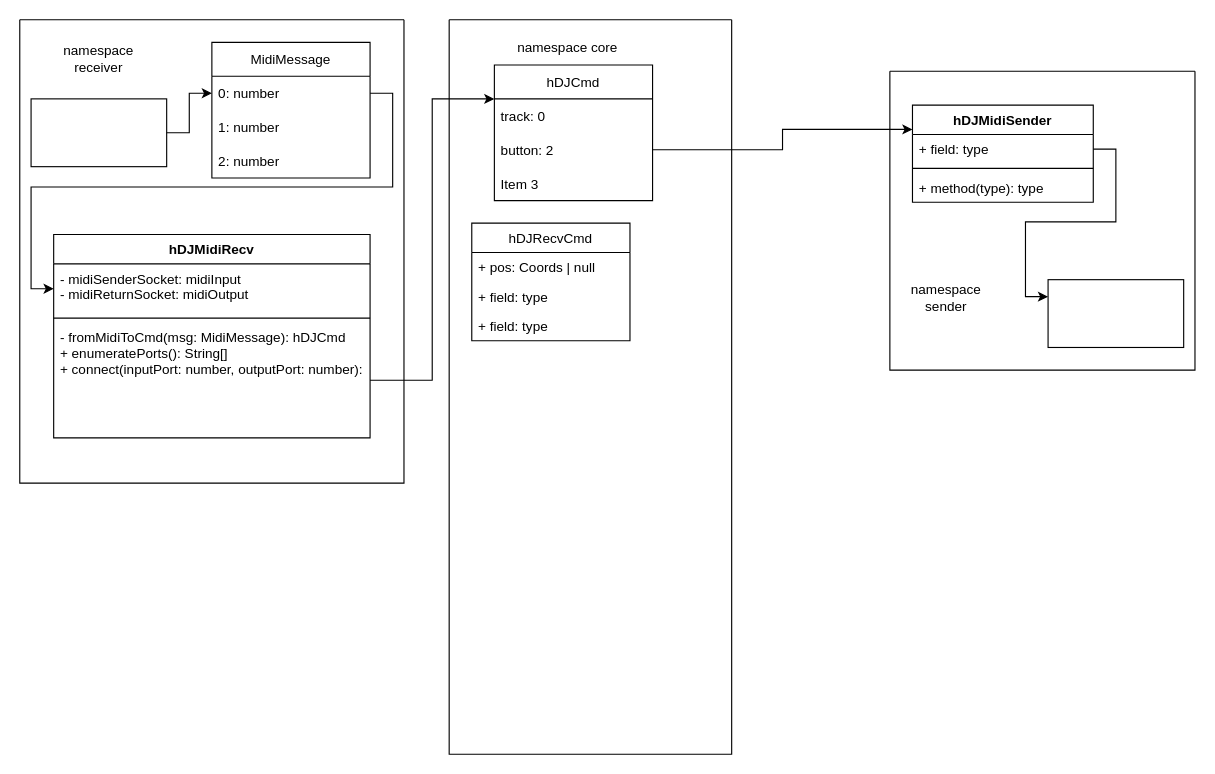
Some shapes in this 1215 by 774 pixel diagram are drawn without their labels. Here are the shapes that lost their labels. From the top down, the centre of each, then its label:
At point 98,132: "FROM Launchpad".
At point 1115,313: "TO Application".
